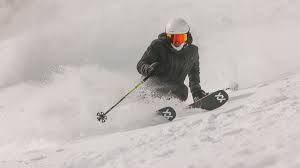skis: (152, 91, 231, 124)
